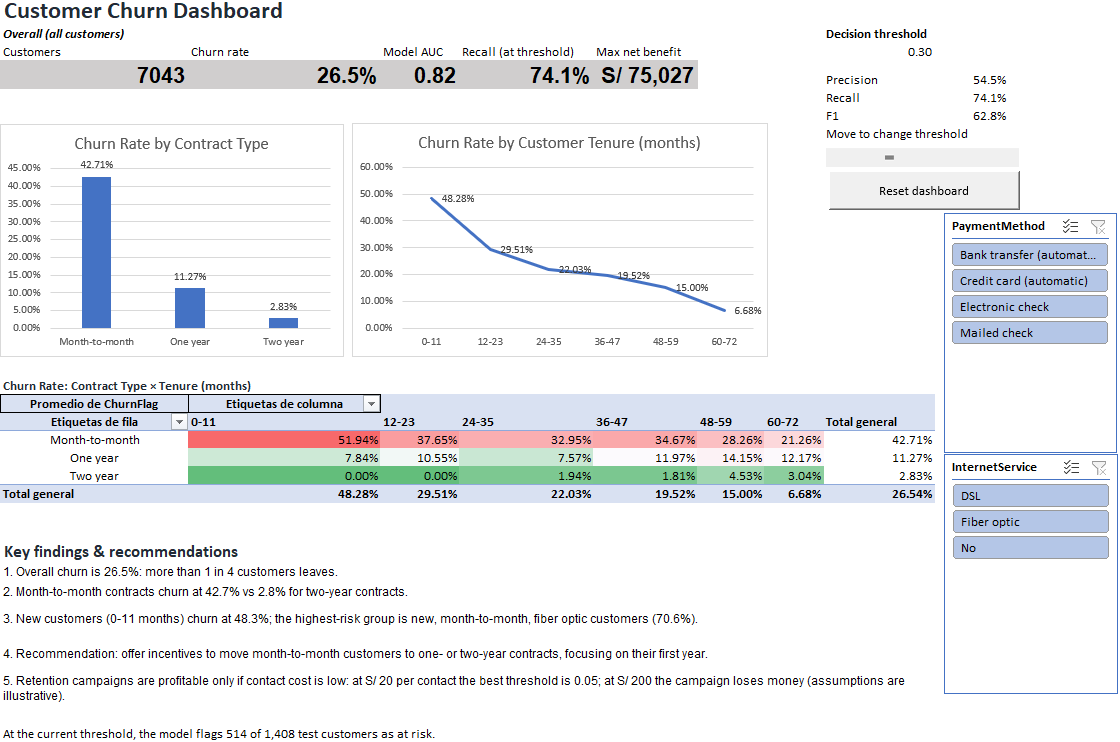

Layout of this report page (visuals, bound fields, positions):
{"tool":"powerbi","page":{"name":"Página 1","canvas":[1920,1080],"ordinal":0},"visuals":[{"type":"clusteredColumnChart","title":"Churn Rate by Contract Type","fields":{"Category":["customers.Contract"],"Y":["customers.Churn Rate"]},"box":[0,288,912,720],"z":0},{"type":"card","fields":{"Values":["customers.Customers"]},"box":[544,144,560,144],"z":1000},{"type":"card","fields":{"Values":["customers.Churned"]},"box":[1104,144,552,144],"z":2000},{"type":"slicer","fields":{"Values":["customers.InternetService"]},"box":[1664,32,256,256],"z":3000},{"type":"lineChart","title":"Churn Rate by Customer Tenure (months)","fields":{"Category":["customers.Tenure Group"],"Y":["customers.Churn Rate"]},"box":[912,600,1008,408],"z":4000},{"type":"pivotTable","fields":{"Columns":["customers.Tenure Group"],"Rows":["customers.Contract"],"Values":["customers.Churn Rate"]},"box":[912,288,1008,312],"z":5000},{"type":"textbox","box":[0,0,1656,144],"z":5002},{"type":"card","fields":{"Values":["customers.Churn Rate"]},"box":[0,144,544,144],"z":5003}]}

Visuals, with their boxes on the page's 1920x1080 design canvas (x1, y1, x2, y2). These are canvas units, not pixel positions in the 1120x742 screenshot, which may show the page scaled, cropped or inside an application window:
"Churn Rate by Contract Type" clusteredColumnChart: 0, 288, 912, 1008
card - customers.Customers: 544, 144, 1104, 288
card - customers.Churned: 1104, 144, 1656, 288
slicer - customers.InternetService: 1664, 32, 1920, 288
"Churn Rate by Customer Tenure (months)" lineChart: 912, 600, 1920, 1008
pivotTable - customers.Tenure Group x customers.Contract: 912, 288, 1920, 600
textbox: 0, 0, 1656, 144
card - customers.Churn Rate: 0, 144, 544, 288
